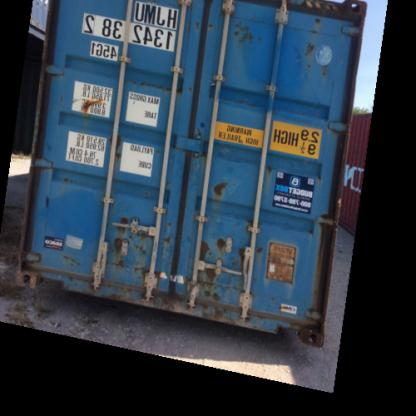Damage: (107, 210, 155, 288), (191, 229, 233, 307), (299, 16, 327, 68), (128, 73, 185, 98), (228, 14, 267, 44), (237, 235, 271, 269), (205, 174, 237, 203), (70, 90, 107, 111), (58, 251, 82, 270), (57, 168, 74, 186)
